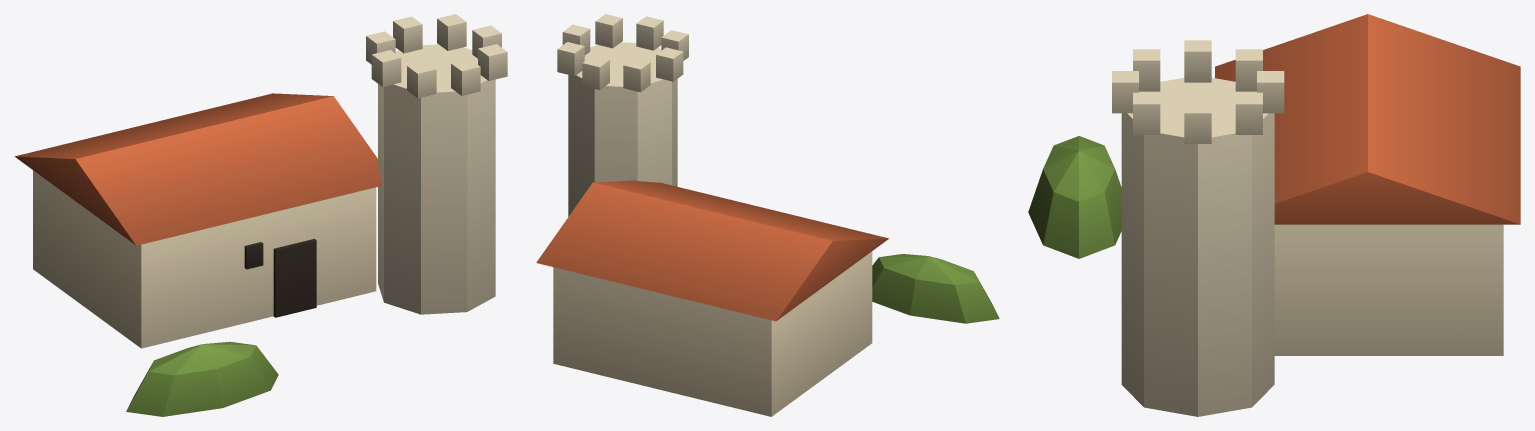
The model's file is SPY_ME.glb.
3 views of the same model, side by side, from view 1: azimuth 30°, elevation 25°; view 2: azimuth 150°, elevation 25°; view 3: azimuth 270°, elevation 25° (orthographic). The views are drawn at different scales.
Parts seen in each view (by area): view 1: Body; view 2: Body; view 3: Body.
Part boxes in pixels (bbox=[...]): Body: bbox=[14, 14, 507, 416]; Body: bbox=[536, 14, 999, 416]; Body: bbox=[1028, 14, 1520, 416].
Bounding box in the file's own units: 3.56 × 2 × 2.9.
1 material, 1 textured.
